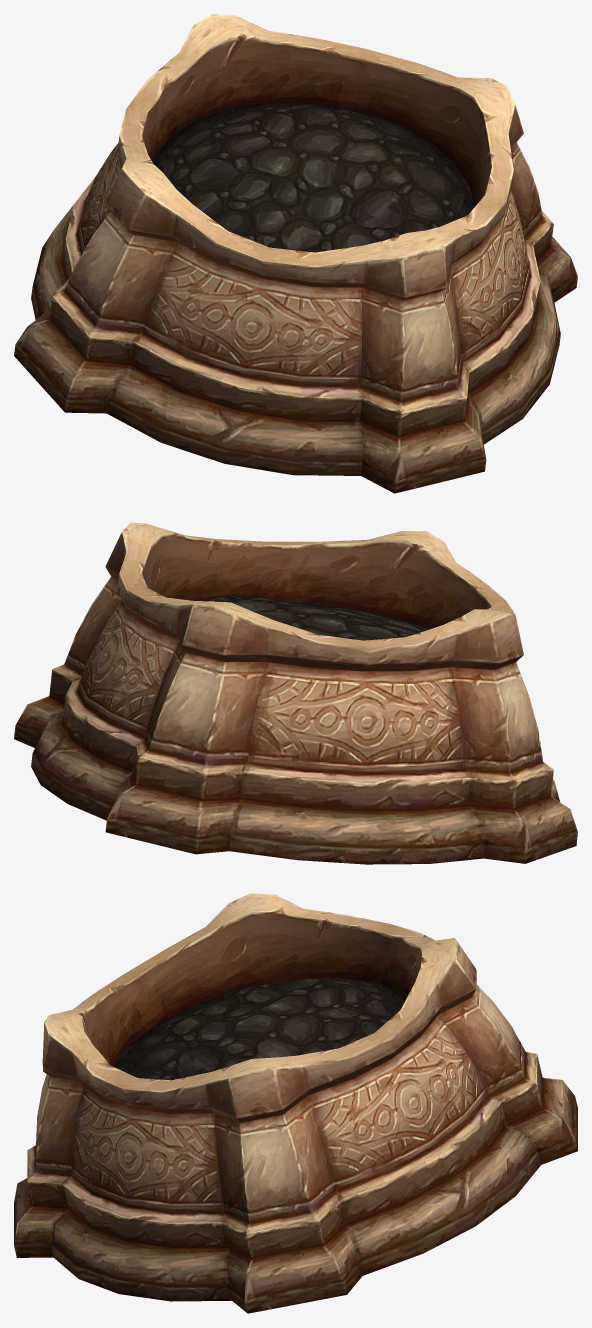
The model's file is mesh_Brazier_03_w_text.FBX.
3 renders of one model, top to bottom at view 1: azimuth 30°, elevation 25°; view 2: azimuth 150°, elevation 25°; view 3: azimuth 270°, elevation 25°, orthographic. The views are drawn at different scales.
Parts seen in each view (by area): view 1: mesh_Brazier_03; view 2: mesh_Brazier_03; view 3: mesh_Brazier_03.
Part boxes in pixels (<box>): mesh_Brazier_03: <box>14,14,577,493</box>; mesh_Brazier_03: <box>14,522,577,864</box>; mesh_Brazier_03: <box>14,893,577,1313</box>.
Size of the model in its own units: 14.75 by 8.32 by 14.51.
